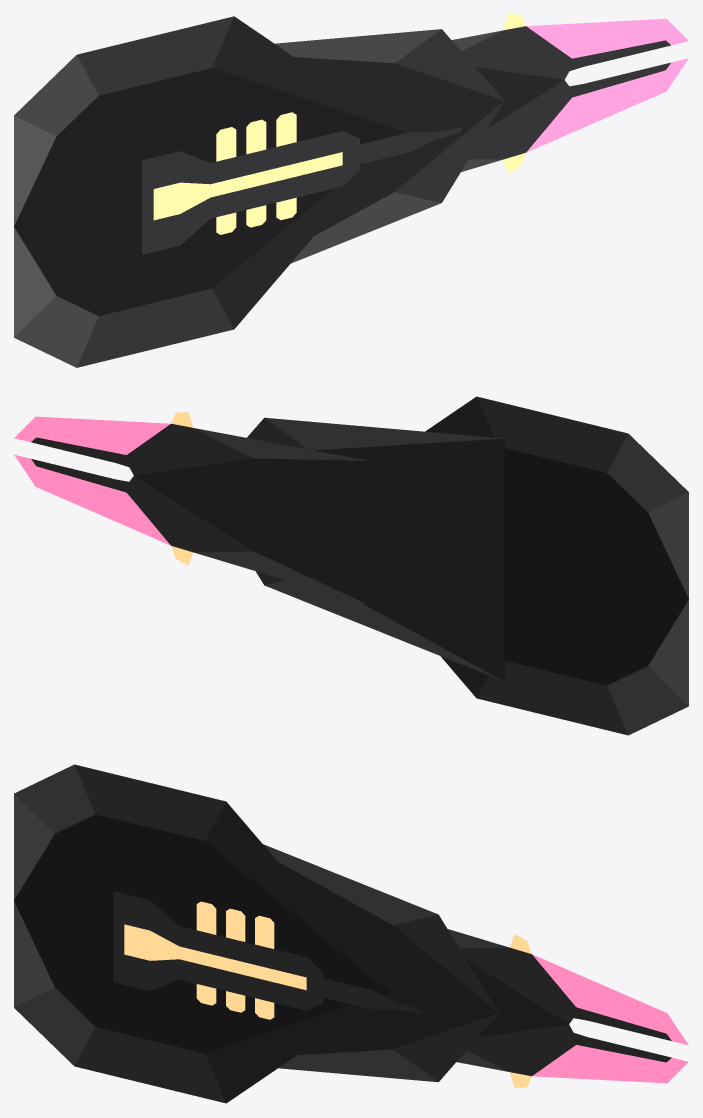
The model's file is WeaponCannonVisual.glb.
3 renders of one model, top to bottom at view 1: azimuth 30°, elevation 25°; view 2: azimuth 150°, elevation 25°; view 3: azimuth 330°, elevation 25°, orthographic. The views are drawn at different scales.
Visible parts, largest first — view 1: WeaponCannonVisual, WeaponCannonVisual.001, WeaponCannonVisual.002, WeaponCannonVisual.003, WeaponCannonVisual.004; view 2: WeaponCannonVisual, WeaponCannonVisual.002, WeaponCannonVisual.001; view 3: WeaponCannonVisual, WeaponCannonVisual.001, WeaponCannonVisual.002, WeaponCannonVisual.003, WeaponCannonVisual.004.
Part boxes in pixels (left/top/right/bottom): WeaponCannonVisual: left=14, top=16, right=403, bottom=367; WeaponCannonVisual.001: left=275, top=29, right=504, bottom=263; WeaponCannonVisual.002: left=452, top=14, right=688, bottom=173; WeaponCannonVisual.003: left=142, top=127, right=461, bottom=254; WeaponCannonVisual.004: left=216, top=112, right=296, bottom=234; WeaponCannonVisual: left=425, top=396, right=688, bottom=735; WeaponCannonVisual.002: left=14, top=412, right=369, bottom=605; WeaponCannonVisual.001: left=247, top=417, right=504, bottom=681; WeaponCannonVisual: left=14, top=764, right=389, bottom=1103; WeaponCannonVisual.001: left=263, top=844, right=498, bottom=1082; WeaponCannonVisual.002: left=448, top=929, right=688, bottom=1087; WeaponCannonVisual.003: left=113, top=891, right=421, bottom=1013; WeaponCannonVisual.004: left=196, top=901, right=274, bottom=1019.
Bounding box in the file's own units: 63.23 × 27.53 × 4.
